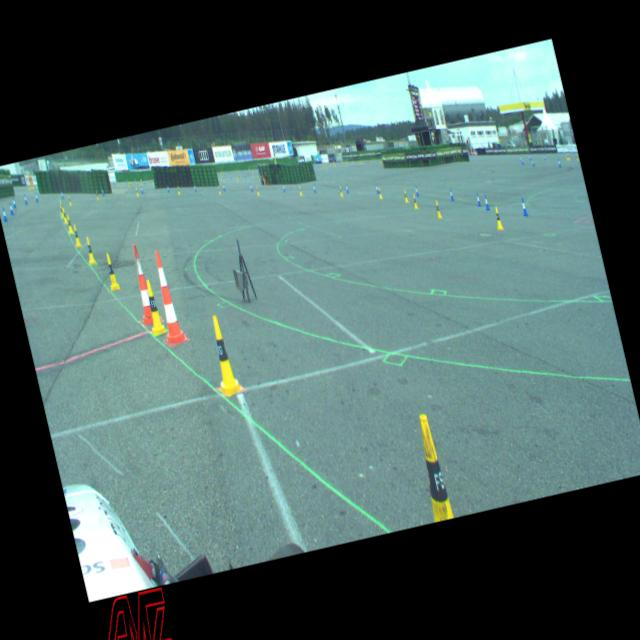blue_cone: (520, 197, 528, 216), (482, 193, 490, 209), (1, 206, 8, 221), (475, 192, 481, 205), (448, 188, 454, 201), (8, 201, 14, 214), (374, 182, 379, 194), (414, 185, 419, 196), (11, 197, 16, 208), (23, 193, 27, 204), (344, 183, 348, 193), (34, 192, 38, 202), (222, 182, 226, 192), (249, 182, 253, 191), (60, 190, 64, 199), (282, 183, 286, 192), (556, 158, 560, 167), (140, 185, 144, 194), (312, 184, 316, 192), (530, 158, 534, 166), (166, 185, 170, 192), (100, 188, 104, 195), (194, 184, 196, 191)
large_orange_cone: (146, 248, 187, 344), (126, 243, 154, 324)
yellow_cone: (411, 413, 453, 521), (202, 313, 244, 397), (141, 278, 166, 334), (102, 252, 120, 290), (82, 235, 96, 264), (70, 223, 82, 247), (492, 206, 503, 230), (64, 213, 73, 233), (434, 199, 442, 218), (61, 208, 68, 224), (411, 193, 418, 208), (402, 189, 408, 202), (338, 185, 343, 196), (255, 186, 259, 196), (95, 190, 99, 200), (67, 194, 71, 204), (298, 184, 302, 194), (378, 188, 382, 198), (217, 185, 221, 195), (135, 187, 139, 196), (177, 185, 180, 194)
